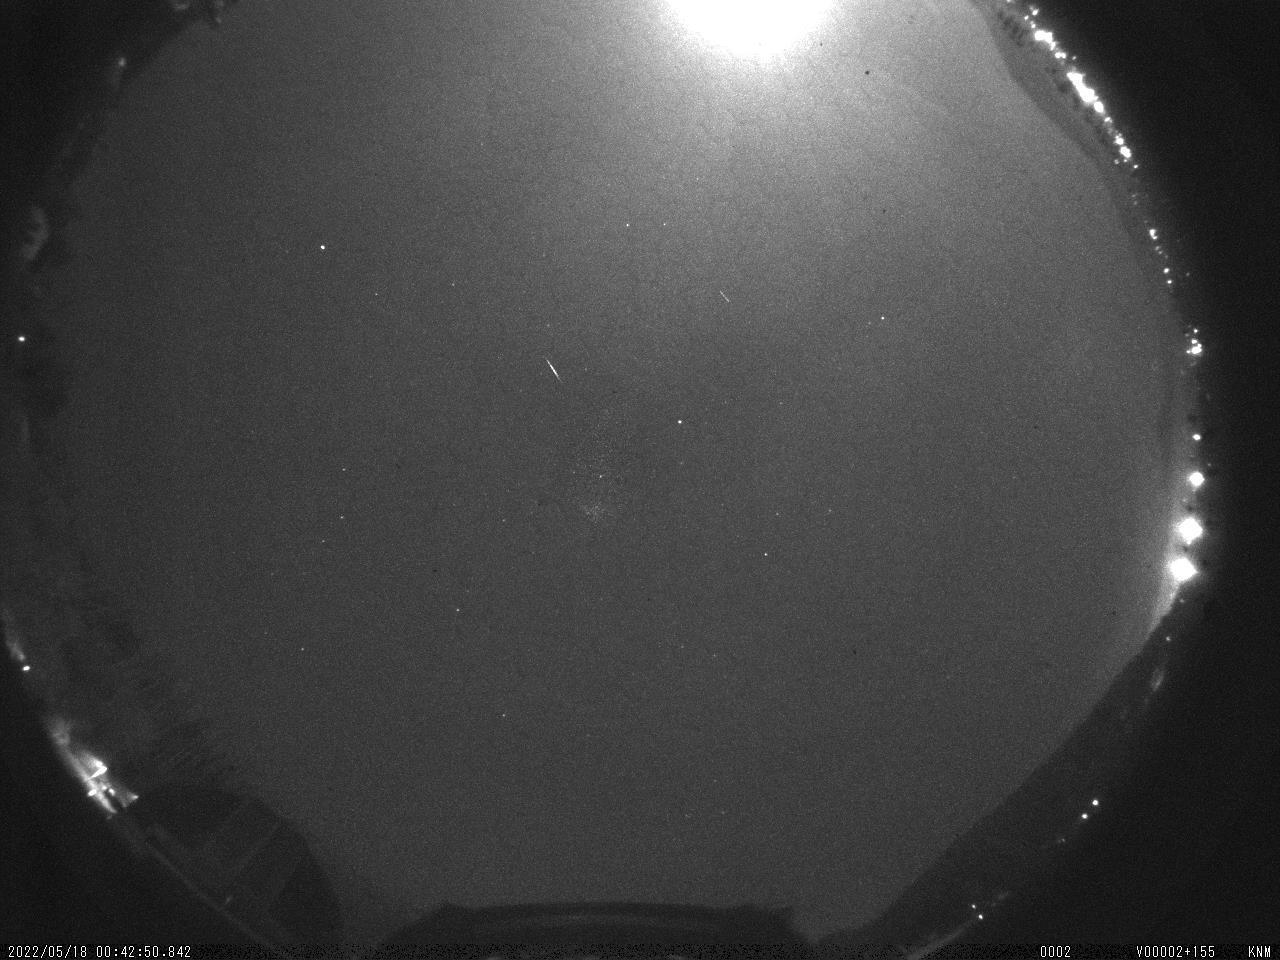Meteor: (541, 353, 566, 388)
